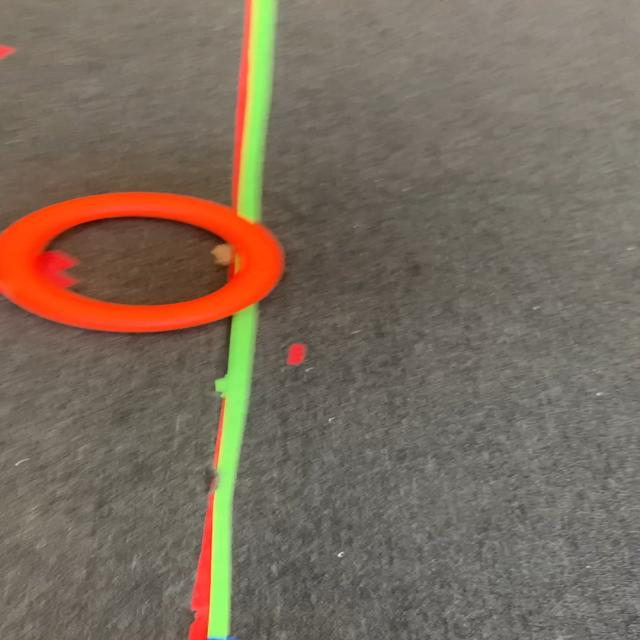notes: (0, 190, 287, 334)
